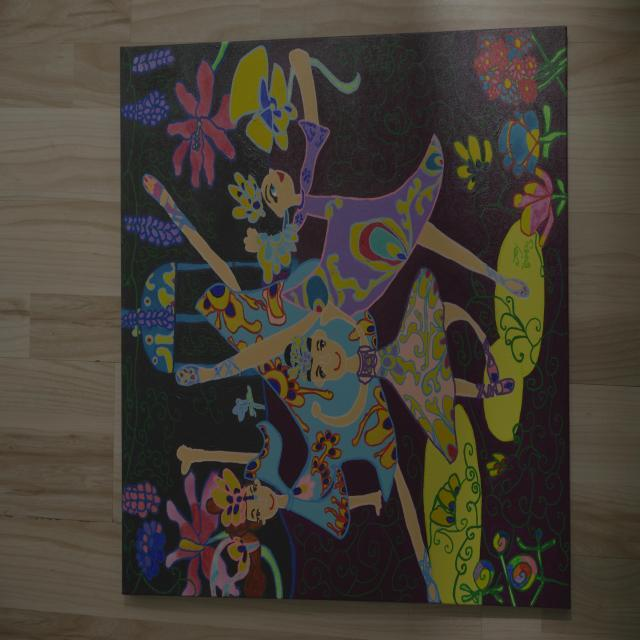painting: (120, 25, 570, 606)
